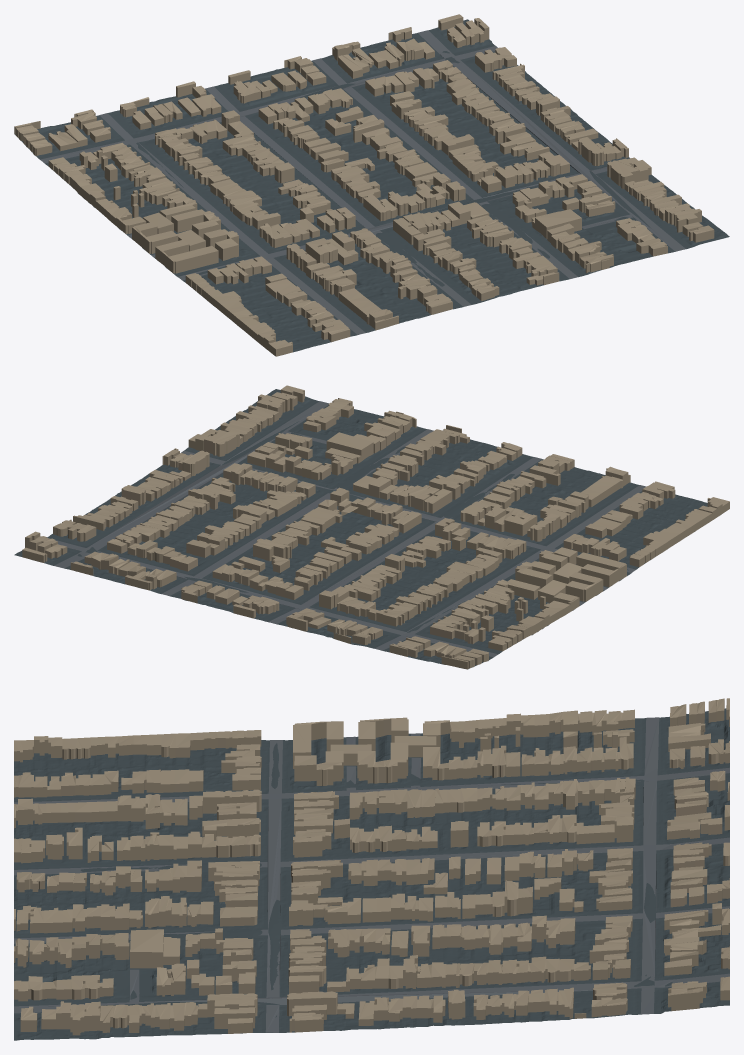
The model's file is epsg26910-1426-10872.lod0.glb.
The picture shows the model from 3 angles, top to bottom: view 1: azimuth 30°, elevation 25°; view 2: azimuth 150°, elevation 25°; view 3: azimuth 270°, elevation 25°; orthographic projection. The views are drawn at different scales.
Visible parts, largest first — view 1: epsg26910-1426-10872-lod0; view 2: epsg26910-1426-10872-lod0; view 3: epsg26910-1426-10872-lod0.
Part boxes in pixels (x1,y1,x2,y2): epsg26910-1426-10872-lod0: (14, 14, 729, 356); epsg26910-1426-10872-lod0: (14, 385, 729, 669); epsg26910-1426-10872-lod0: (14, 698, 729, 1040).
Size of the model in its own units: 384 by 36.26 by 384.
